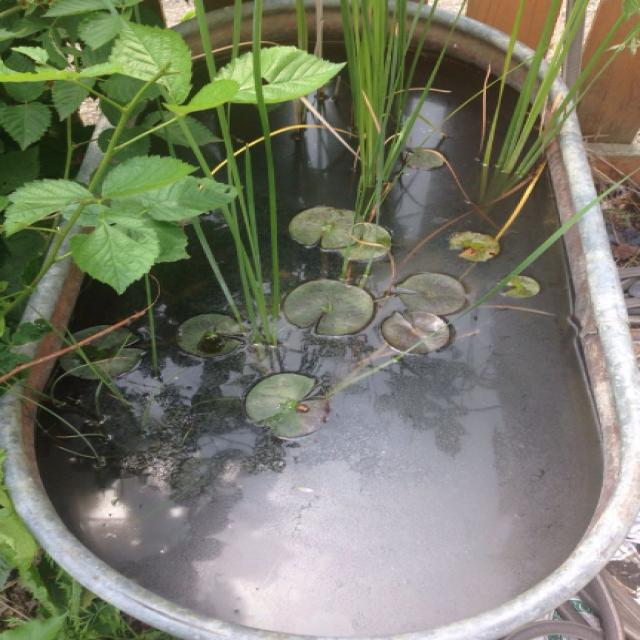Breeding Place: (0, 2, 636, 640)
